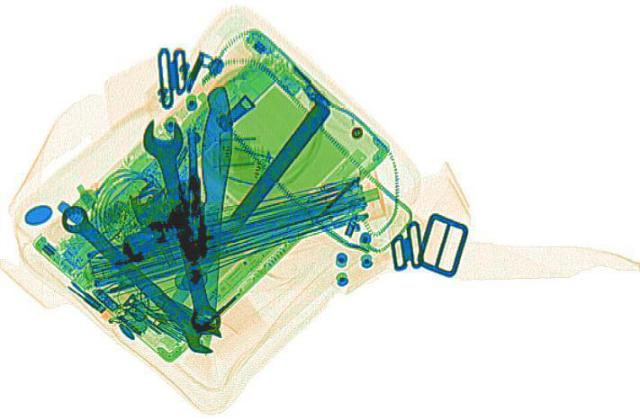Gun: (112, 128, 206, 254)
Knife: (148, 102, 334, 320), (192, 86, 234, 342)
Wrench: (44, 198, 235, 355), (136, 115, 230, 332)
